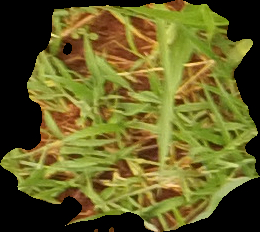grass: (2, 1, 258, 230)
